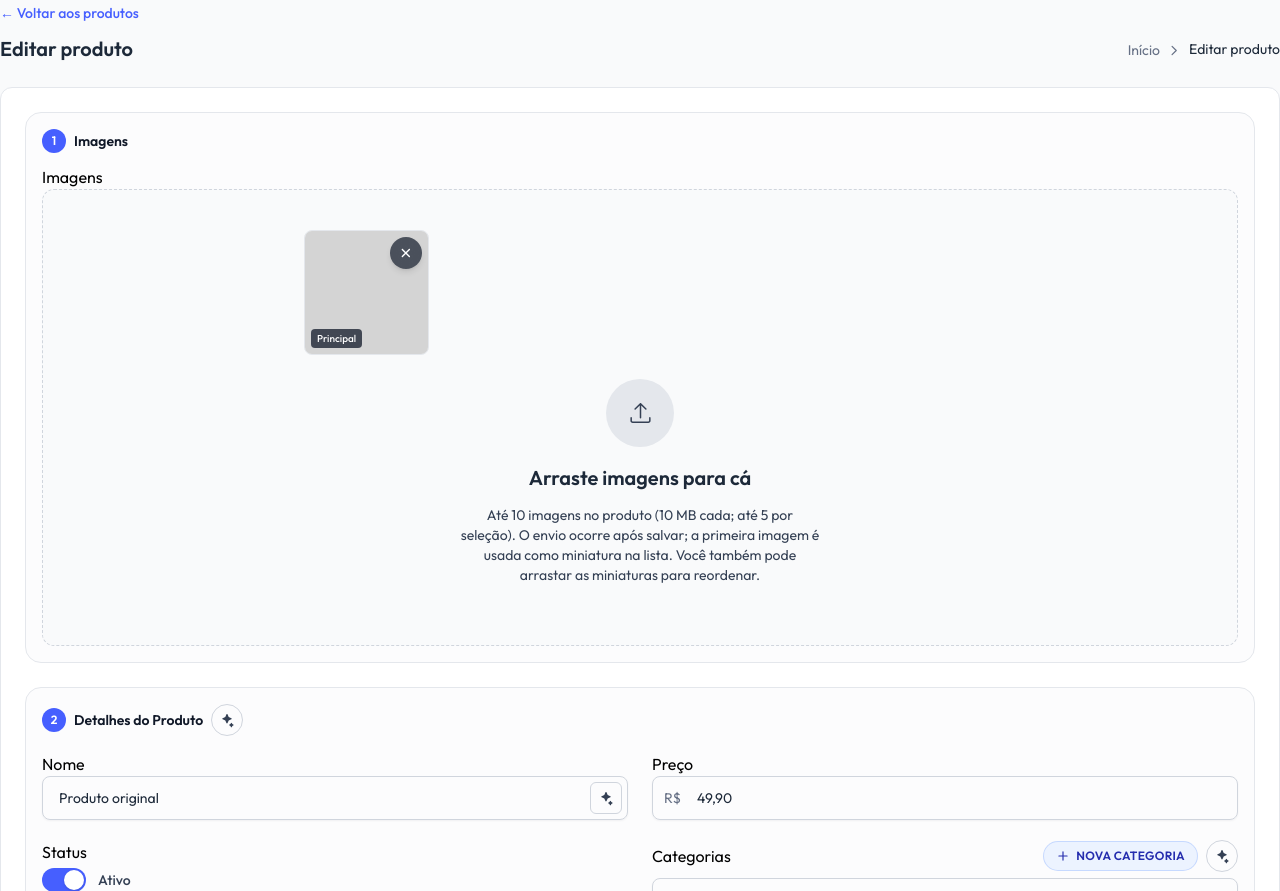
Test case: ProductForm AI suggestions behavior › opens modal with available fields when one requested field is empty
The width and height of the screenshot is (1280, 891).
Click the button named "Sugestao por IA para secao de nome, categoria e descricao" at (227, 720), box top-left (211, 704), bottom-right (243, 736)
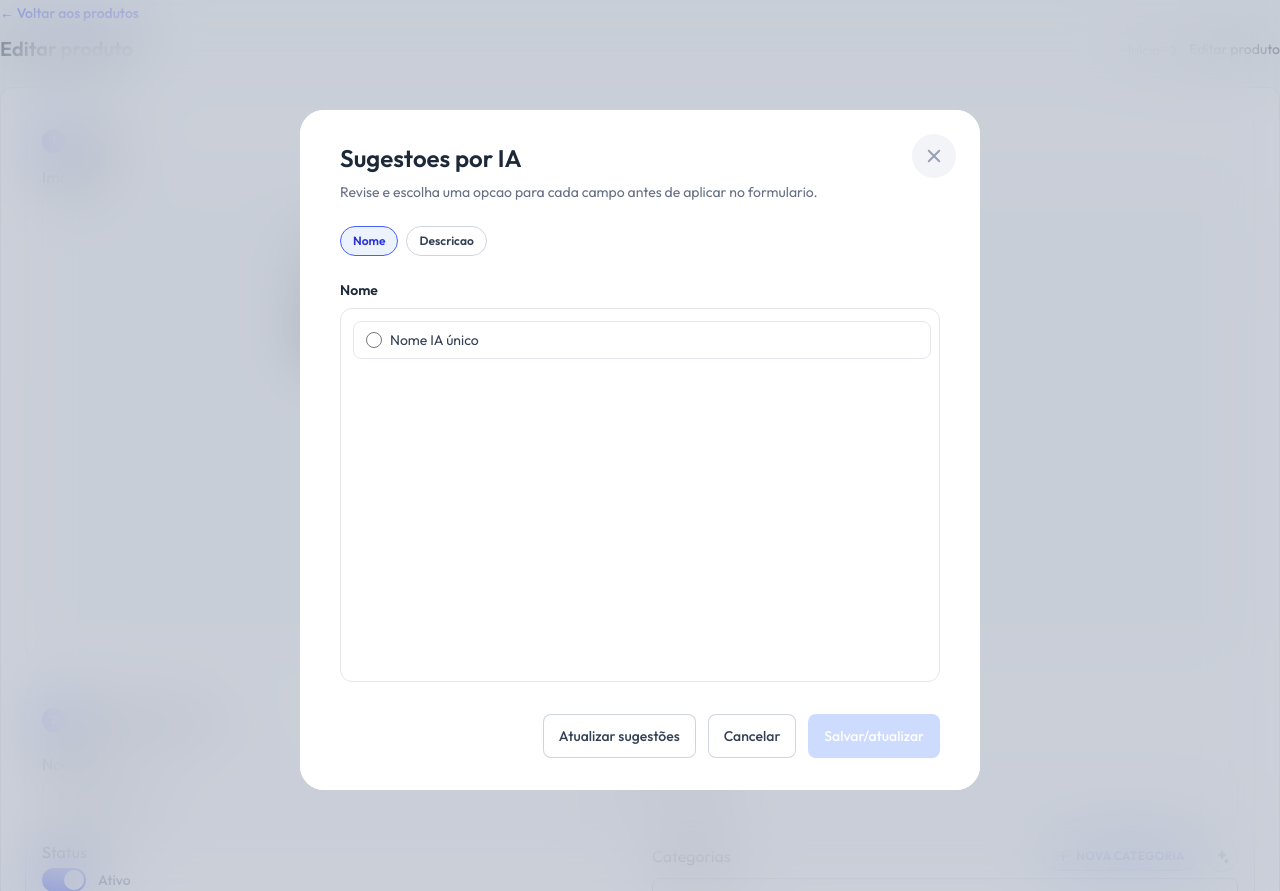
Result: the heading "Sugestoes por IA" is shown at top-left (340, 143), bottom-right (522, 173)
Result: the tab "Nome" is shown at top-left (340, 226), bottom-right (398, 256)
Result: the tab "Descricao" is shown at top-left (406, 226), bottom-right (487, 256)
